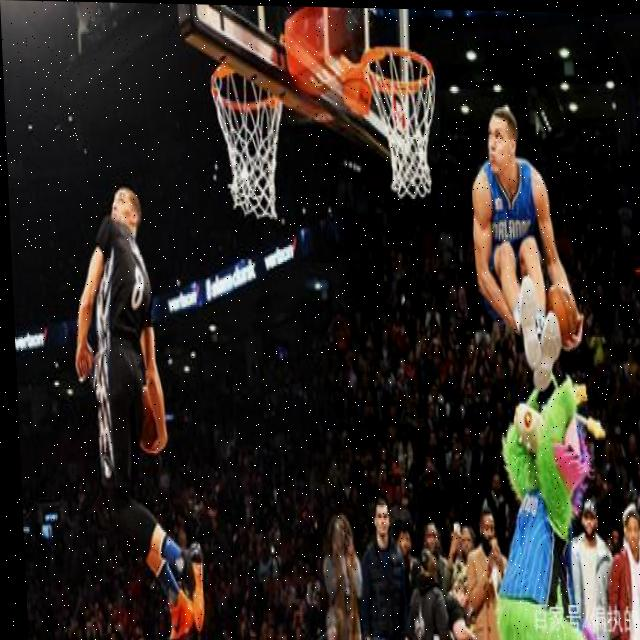basketball: (545, 281, 580, 348), (137, 379, 159, 452)
hoop: (211, 60, 291, 222), (364, 46, 441, 201)
